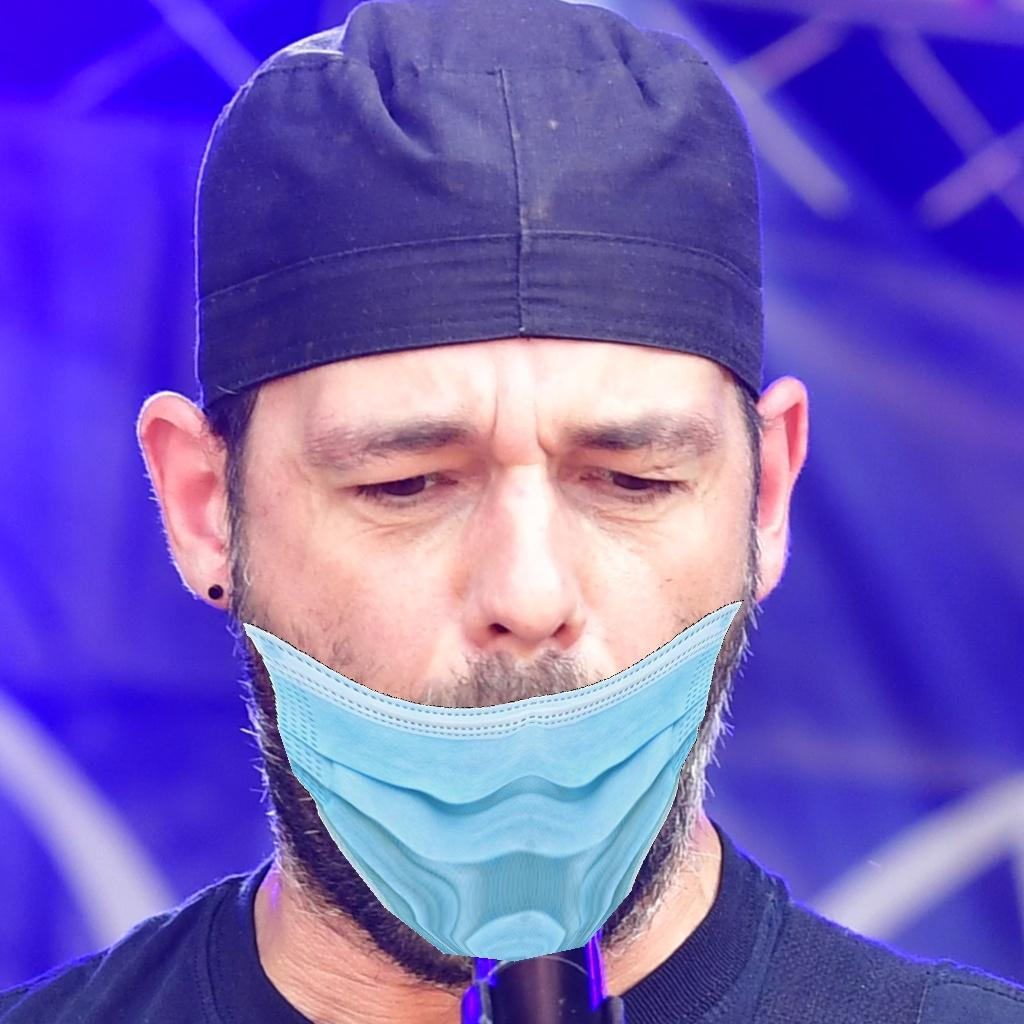Máscara Incorreta: (216, 312, 759, 945)
